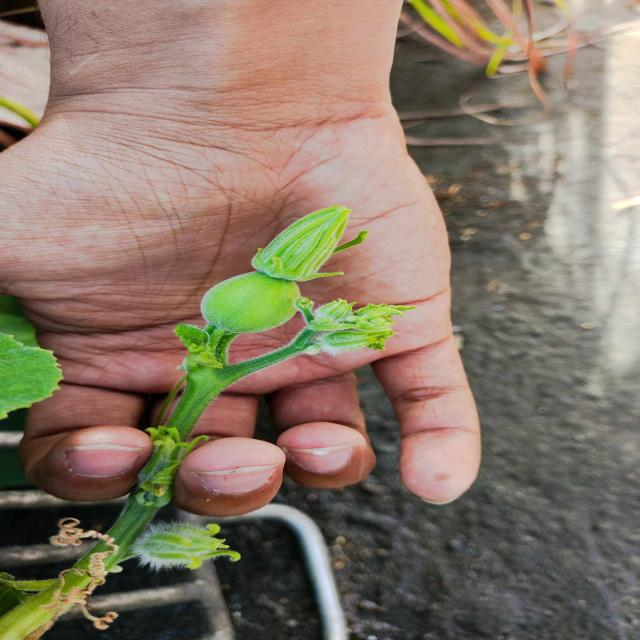flower: (232, 198, 376, 294)
